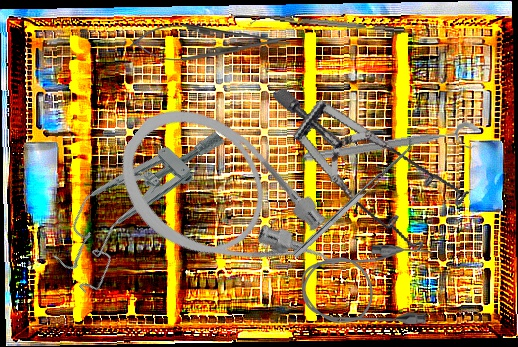Cannula: (94, 81, 364, 333), (301, 243, 434, 327)
Chopper: (250, 11, 405, 41)
Fixation Ring: (301, 120, 483, 177)
Needle Holder: (129, 21, 292, 64)
Spatula Surgical: (287, 136, 418, 259)
Speculum: (272, 44, 482, 279), (37, 99, 237, 299)
